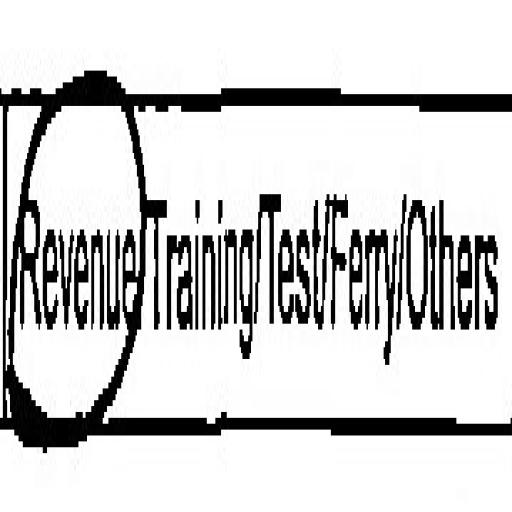check: (0, 9, 149, 503)
